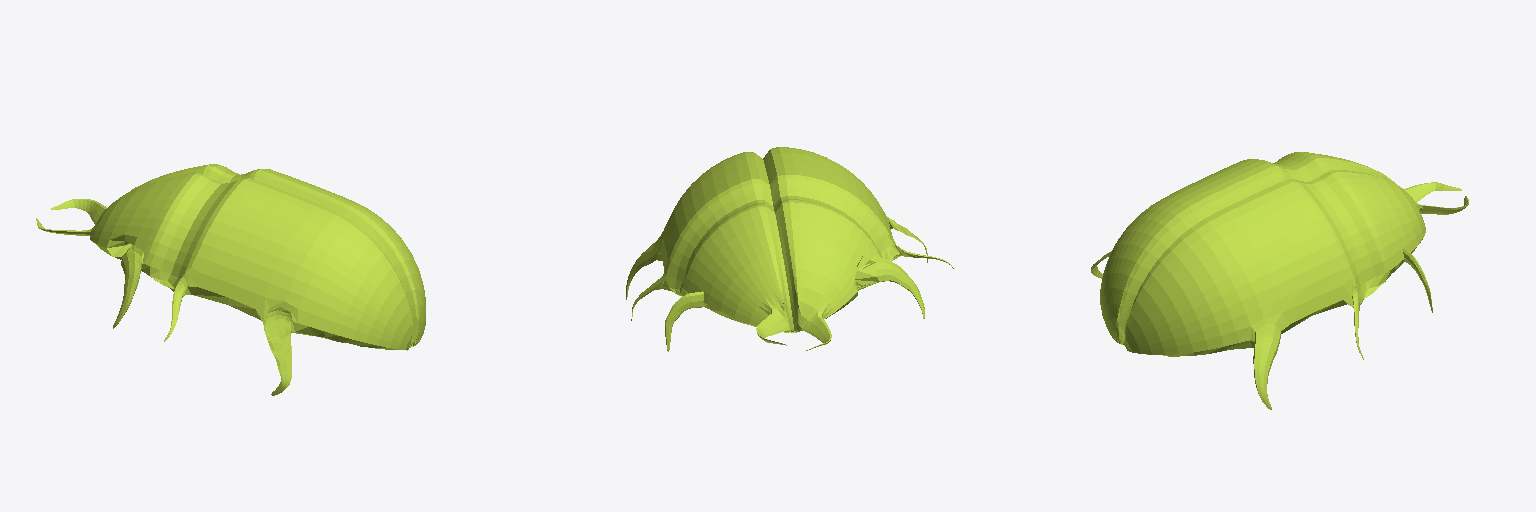
File: bug.obj
The picture shows the model from 3 angles: view 1: azimuth 30°, elevation 25°; view 2: azimuth 150°, elevation 25°; view 3: azimuth 270°, elevation 25°; orthographic projection.
Visible parts, largest first — view 1: Capsule001; view 2: Capsule001; view 3: Capsule001.
Boxes of the visible parts, box(x1,y1,x2,y2) form: Capsule001: box(36, 164, 425, 395); Capsule001: box(626, 147, 953, 351); Capsule001: box(1091, 152, 1468, 409).
Bounding box in the file's own units: 68.76 × 36.28 × 75.36.